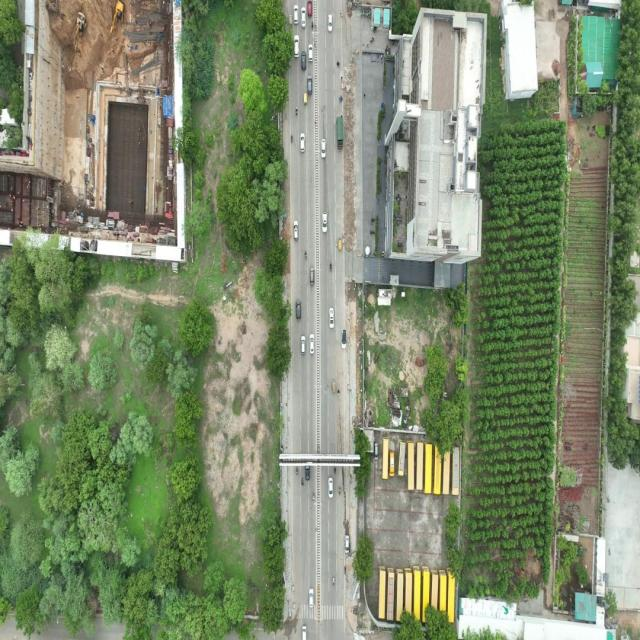3W: (331, 377, 336, 396), (287, 13, 293, 27), (337, 237, 343, 251), (302, 92, 308, 105)
Bus: (424, 440, 433, 500), (439, 569, 448, 622), (452, 446, 461, 498), (378, 565, 386, 623), (413, 564, 421, 622), (448, 567, 456, 625), (405, 567, 413, 624), (422, 566, 430, 622), (443, 444, 451, 499), (434, 443, 442, 497), (407, 439, 414, 496), (397, 567, 404, 624), (416, 440, 423, 494), (388, 566, 394, 623), (382, 435, 388, 485), (432, 570, 438, 619), (399, 441, 405, 482), (390, 450, 395, 477)
Cars: (320, 136, 327, 162), (328, 306, 335, 331), (295, 298, 302, 322), (309, 332, 316, 356), (292, 218, 299, 241), (341, 328, 348, 351), (328, 475, 334, 501), (309, 265, 316, 287), (307, 586, 314, 608), (322, 211, 328, 236), (294, 33, 299, 62), (299, 131, 305, 155), (293, 4, 299, 27), (300, 7, 306, 29), (307, 74, 313, 96), (300, 334, 306, 356), (344, 533, 350, 555), (327, 12, 333, 32), (308, 42, 314, 62), (301, 49, 306, 73), (305, 464, 311, 483), (301, 623, 308, 639), (374, 442, 379, 462)
M2W: (288, 131, 295, 146), (370, 33, 376, 45), (311, 491, 316, 504), (331, 574, 336, 586), (384, 42, 388, 56), (294, 105, 298, 117), (300, 475, 304, 487), (370, 215, 376, 222), (304, 250, 308, 260), (388, 45, 392, 55), (370, 229, 375, 236), (338, 484, 341, 495), (333, 466, 337, 474), (329, 262, 332, 272), (337, 388, 340, 397), (295, 465, 298, 474)
Truck: (332, 111, 348, 154)
